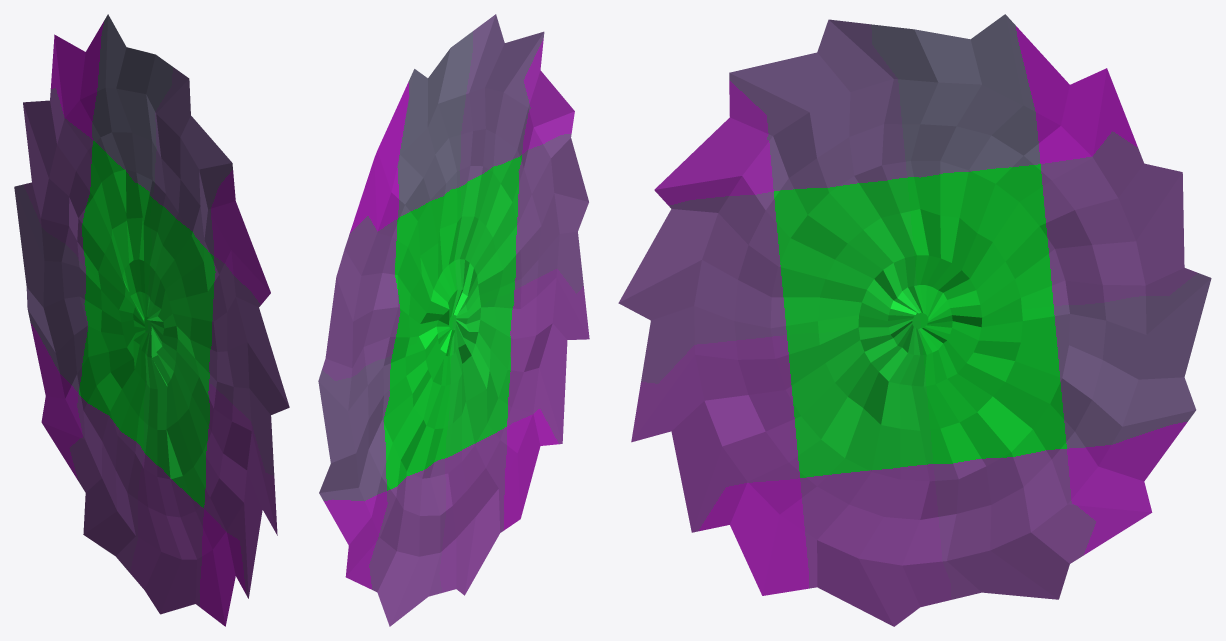
The model's file is portal.fbx.
3 renders of one model, left to right at view 1: azimuth 30°, elevation 25°; view 2: azimuth 150°, elevation 25°; view 3: azimuth 270°, elevation 25°, orthographic. The views are drawn at different scales.
Visible parts, largest first — view 1: Portal; view 2: Portal; view 3: Portal.
Part boxes in pixels (x1,y1,x2,y2): Portal: [14, 14, 289, 626]; Portal: [318, 14, 589, 626]; Portal: [618, 14, 1211, 626].
Size of the model in its own units: 1.37 by 52.2 by 45.82.
